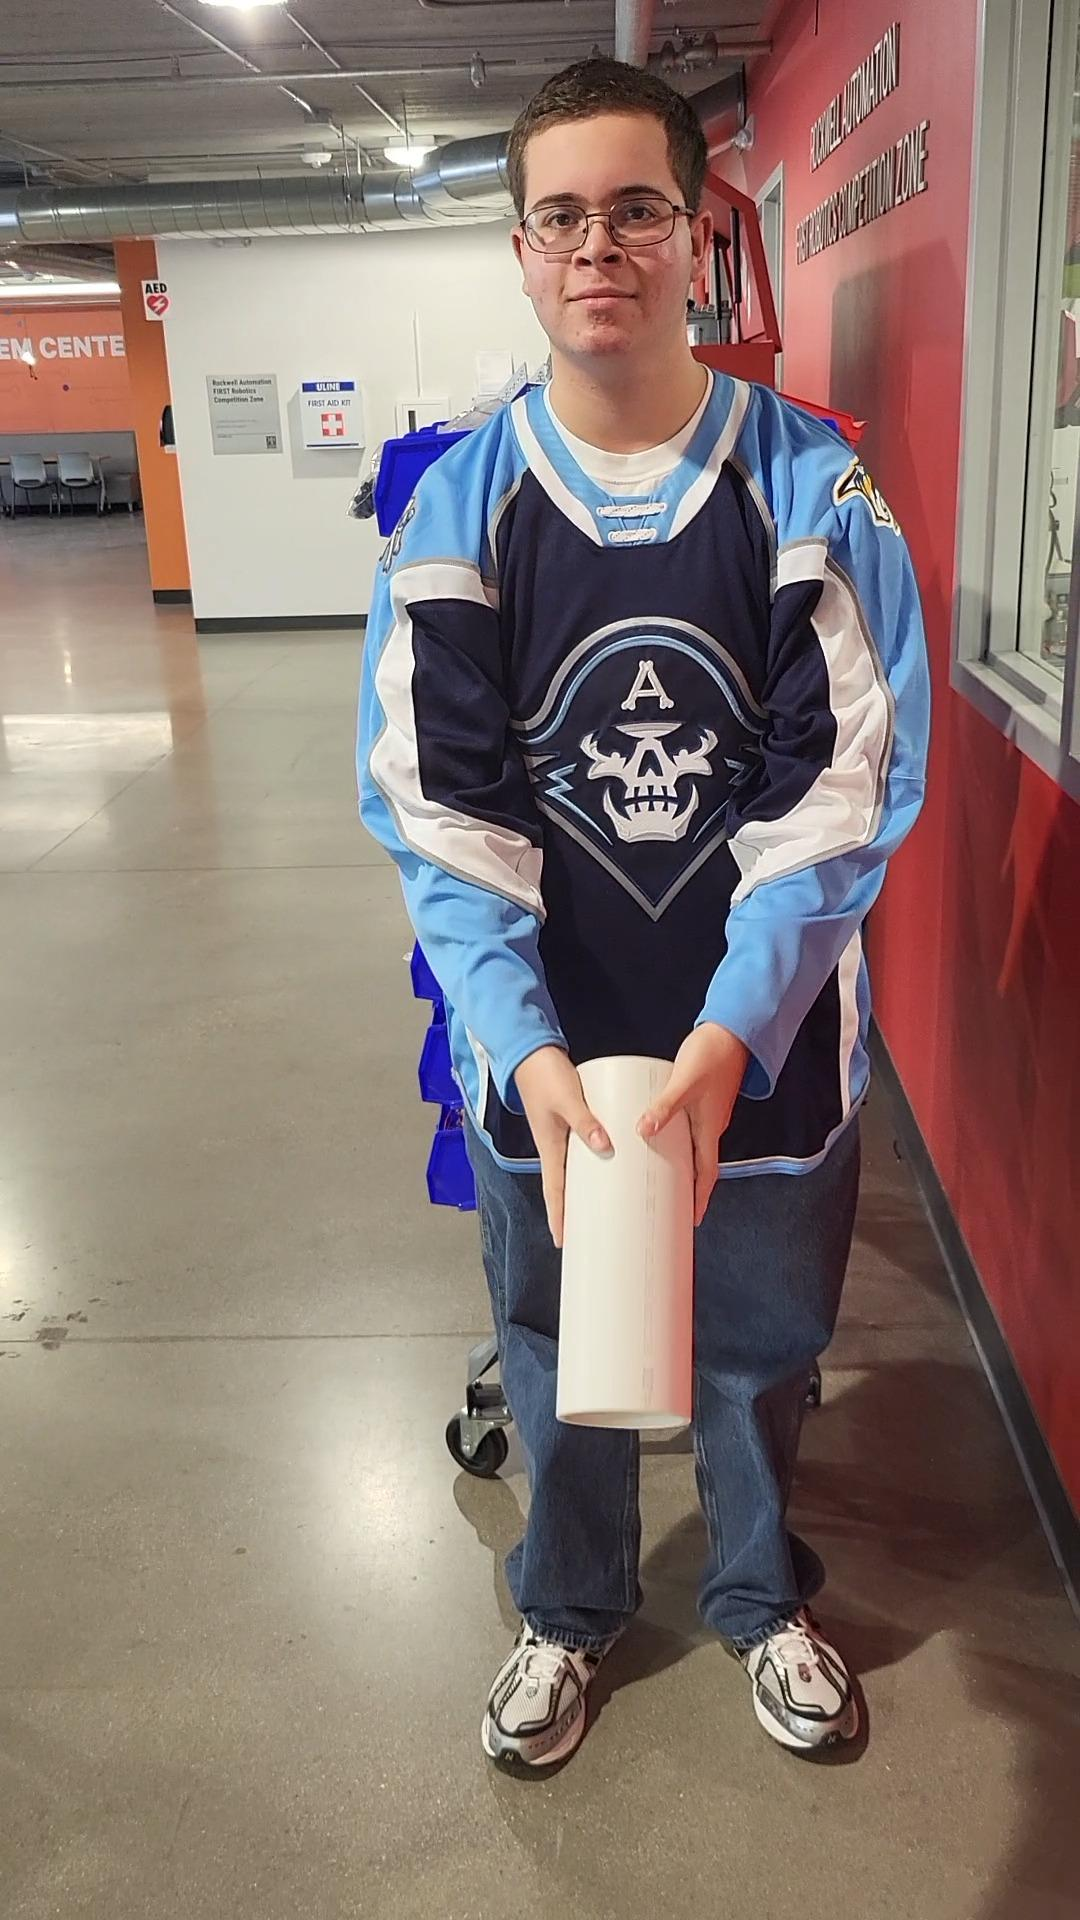coral: (543, 1051, 707, 1444)
